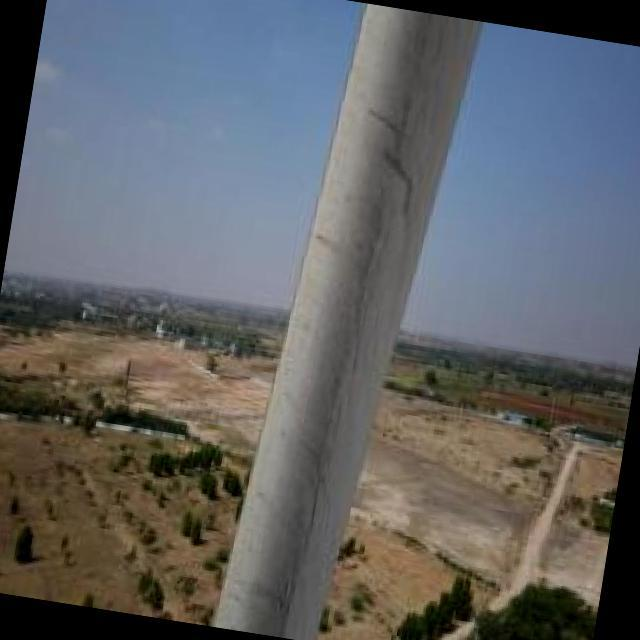Dirt: (220, 2, 456, 640)
